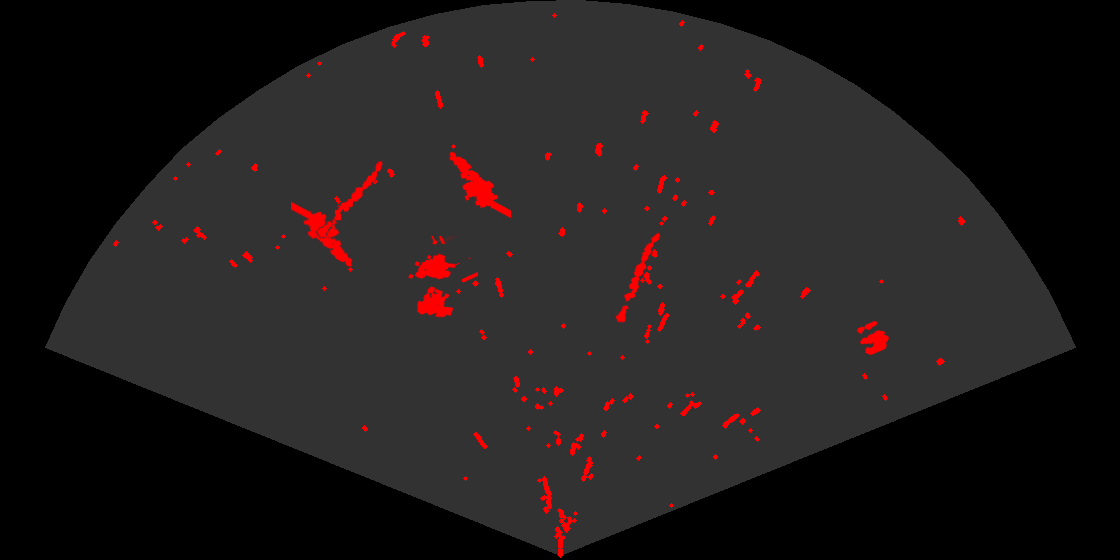ball: (855, 319, 891, 357)
cage: (407, 236, 478, 319)
chain: (315, 160, 384, 239), (614, 231, 662, 325)
frogman: (448, 150, 511, 220), (291, 200, 354, 268)
